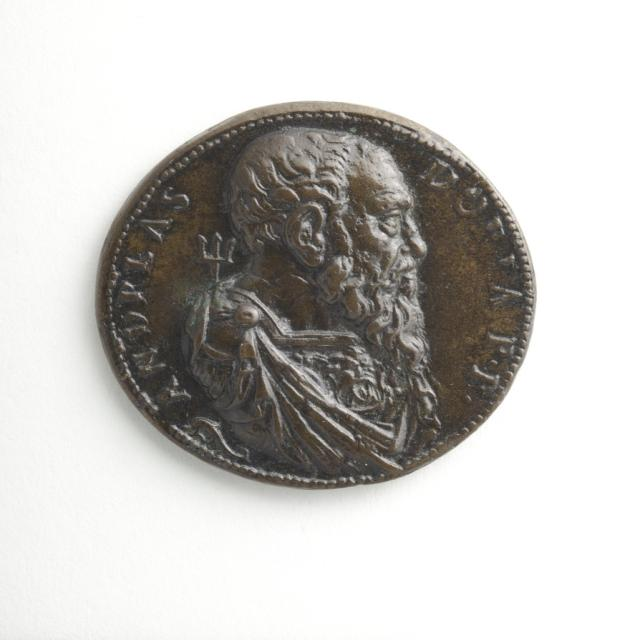Coin: (94, 96, 541, 489)
